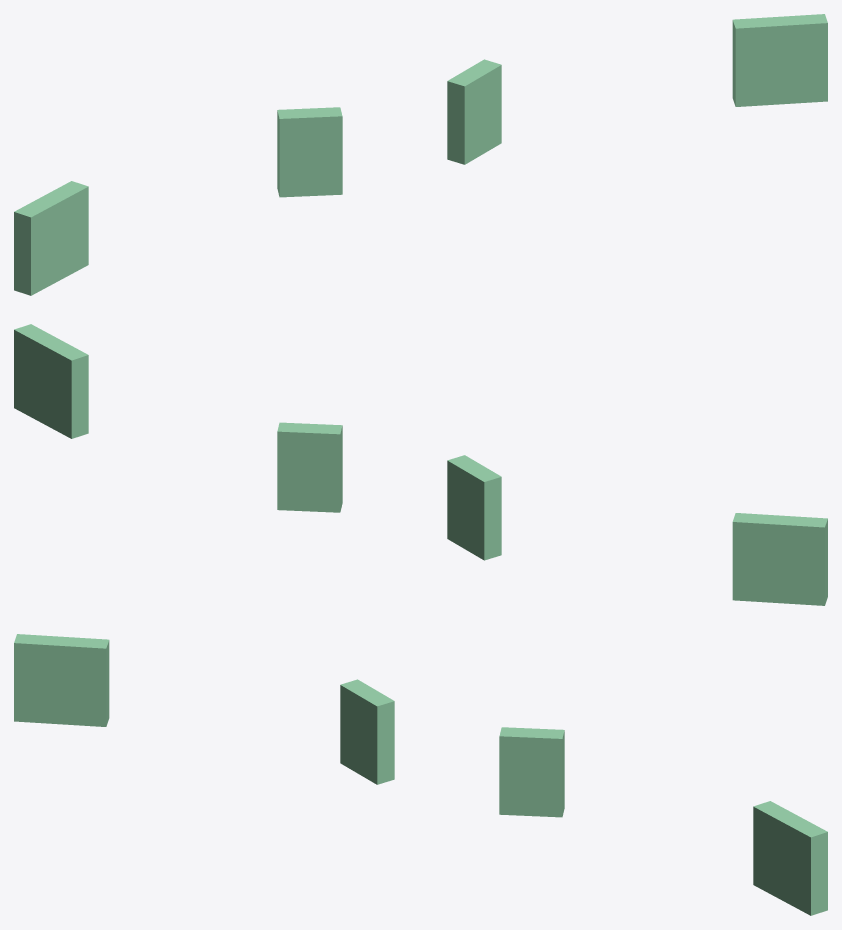
The model's file is Space_Targets.glb.
3 renders of one model, top to bottom at view 1: azimuth 30°, elevation 25°; view 2: azimuth 150°, elevation 25°; view 3: azimuth 330°, elevation 25°, orthographic.
Parts seen in each view (by area): view 1: Standup4, Standup3, Standup1, Standup2; view 2: Standup3, Standup4, Standup2, Standup1; view 3: Standup3, Standup4, Standup2, Standup1.
Part boxes in pixels (bbox=[...]): Standup4: bbox=[732, 14, 827, 106]; Standup3: bbox=[14, 181, 88, 295]; Standup1: bbox=[277, 107, 342, 197]; Standup2: bbox=[447, 59, 501, 164]; Standup3: bbox=[732, 513, 827, 605]; Standup4: bbox=[14, 324, 88, 438]; Standup2: bbox=[277, 422, 342, 512]; Standup1: bbox=[447, 455, 501, 560]; Standup3: bbox=[14, 634, 109, 726]; Standup4: bbox=[753, 801, 827, 915]; Standup2: bbox=[499, 727, 564, 817]; Standup1: bbox=[340, 679, 394, 784].
Size of the model in its own units: 0.3634 by 0.0336 by 0.0378.
